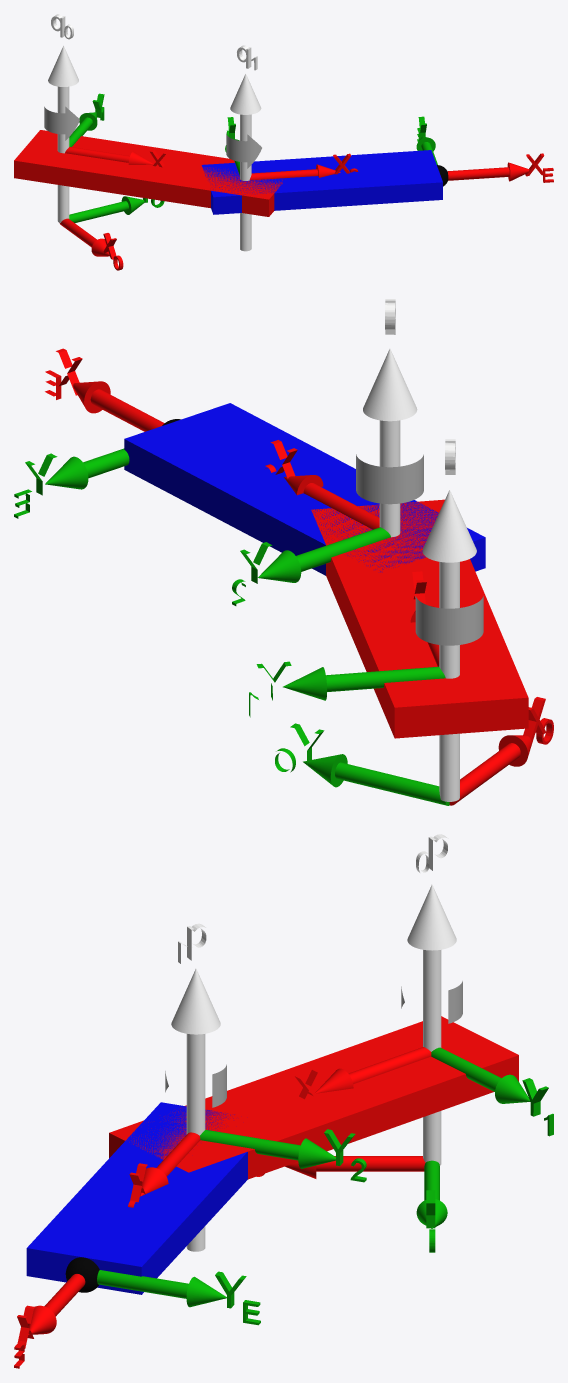
File: fig7_7.gltf
3 views of the same model, one above another, from view 1: azimuth 30°, elevation 25°; view 2: azimuth 150°, elevation 25°; view 3: azimuth 270°, elevation 25° (orthographic). The views are drawn at different scales.
Parts seen in each view (by area): view 1: Renderer Node; view 2: Renderer Node; view 3: Renderer Node.
Boxes of the visible parts, x1=… form: Renderer Node: x1=14, y1=14, x2=553, y2=270; Renderer Node: x1=14, y1=299, x2=553, y2=805; Renderer Node: x1=14, y1=834, x2=553, y2=1368.
Bounding box in the file's own units: 2.43 × 1.21 × 1.75.
